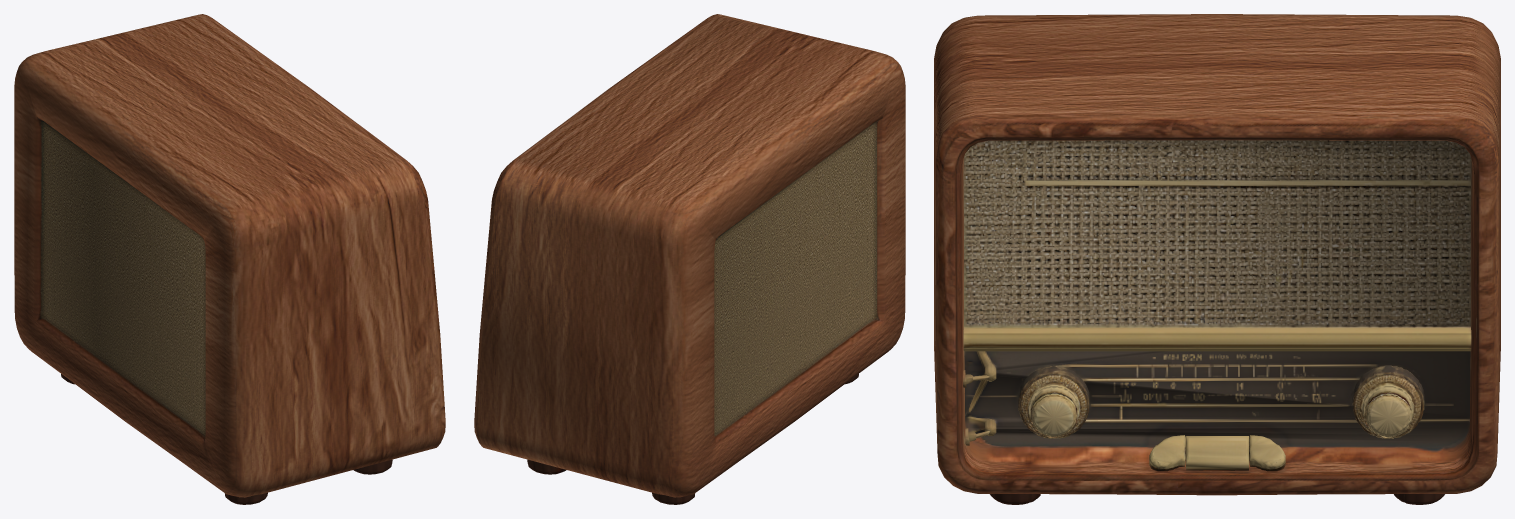
The picture shows the model from 3 angles, left to right: view 1: azimuth 30°, elevation 25°; view 2: azimuth 150°, elevation 25°; view 3: azimuth 270°, elevation 25°; orthographic projection. The views are drawn at different scales.
Parts seen in each view (by area): view 1: tripo_node_92ca9029-8c63-4a71-9abd-1e68ccbaf9bc; view 2: tripo_node_92ca9029-8c63-4a71-9abd-1e68ccbaf9bc; view 3: tripo_node_92ca9029-8c63-4a71-9abd-1e68ccbaf9bc.
Boxes of the visible parts, x1,y1,x2,y2 form: tripo_node_92ca9029-8c63-4a71-9abd-1e68ccbaf9bc: (14,14,445,504); tripo_node_92ca9029-8c63-4a71-9abd-1e68ccbaf9bc: (474,14,905,504); tripo_node_92ca9029-8c63-4a71-9abd-1e68ccbaf9bc: (934,14,1500,504).
Bounding box in the file's own units: 0.541 × 0.7598 × 0.998.
1 material, 1 textured.
